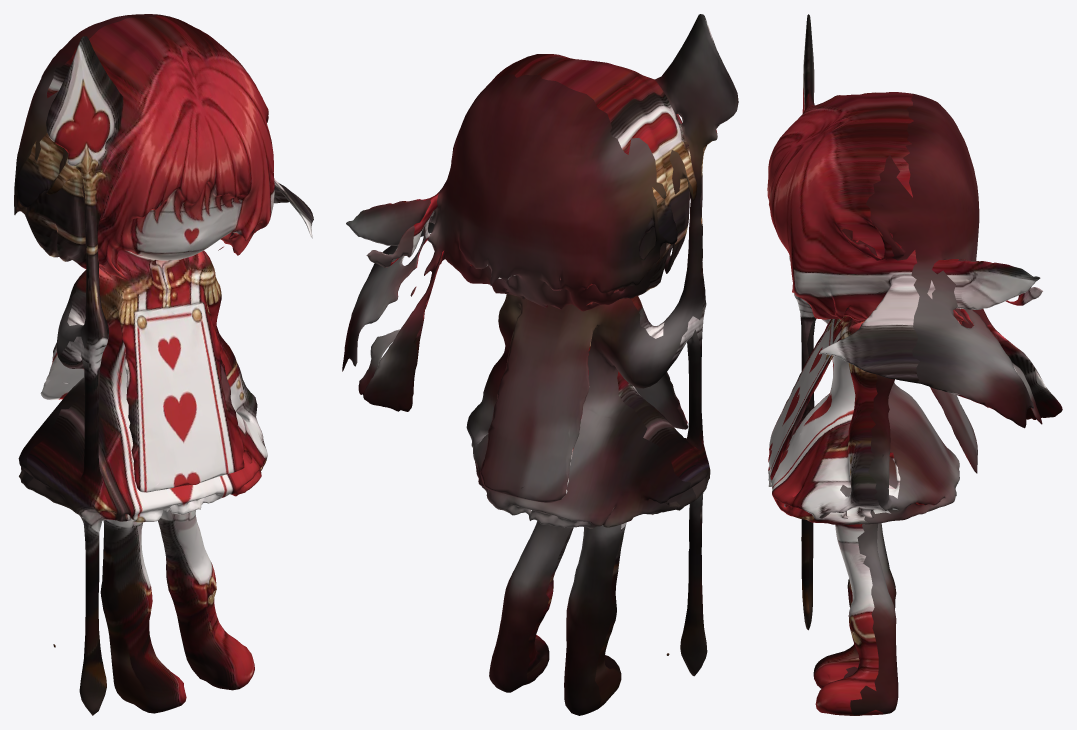
File: soldier.glb
The picture shows the model from 3 angles, left to right: view 1: azimuth 30°, elevation 25°; view 2: azimuth 150°, elevation 25°; view 3: azimuth 270°, elevation 25°; orthographic projection. The views are drawn at different scales.
Visible parts, largest first — view 1: geometry_0; view 2: geometry_0; view 3: geometry_0.
Part boxes in pixels (x1,y1,x2,y2): geometry_0: [14, 14, 313, 715]; geometry_0: [342, 14, 738, 715]; geometry_0: [767, 14, 1062, 715].
Bounding box in the file's own units: 0.4593 × 1 × 0.4203.
1 material, 1 textured.
